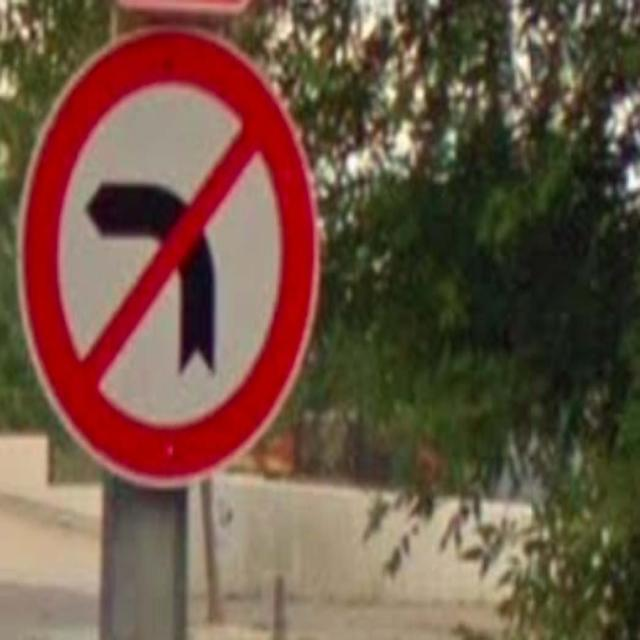soladonulmez: (17, 26, 321, 490)
